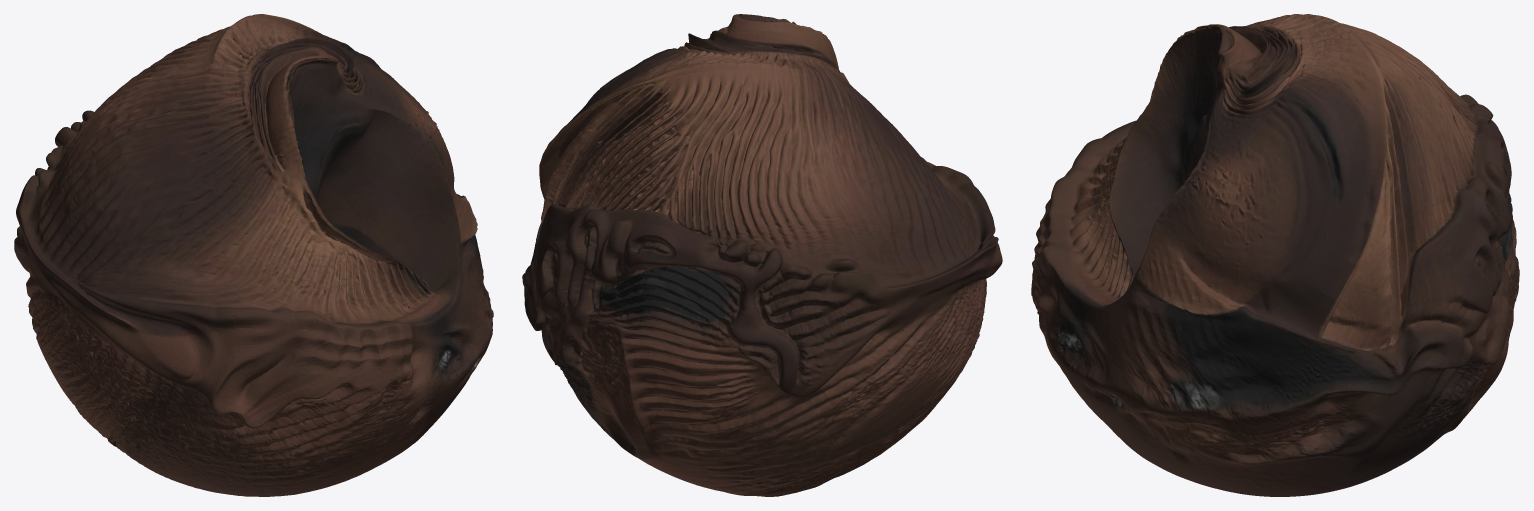
3 views of the same model, side by side, from view 1: azimuth 30°, elevation 25°; view 2: azimuth 150°, elevation 25°; view 3: azimuth 270°, elevation 25° (orthographic). The views are drawn at different scales.
Parts seen in each view (by area): view 1: tripo_node_08ccfa14-0def-40e6-944d-6bd7ec04f7e4; view 2: tripo_node_08ccfa14-0def-40e6-944d-6bd7ec04f7e4; view 3: tripo_node_08ccfa14-0def-40e6-944d-6bd7ec04f7e4.
Part boxes in pixels (left/top/right/bottom): tripo_node_08ccfa14-0def-40e6-944d-6bd7ec04f7e4: left=14, top=14, right=493, bottom=496; tripo_node_08ccfa14-0def-40e6-944d-6bd7ec04f7e4: left=522, top=14, right=1002, bottom=496; tripo_node_08ccfa14-0def-40e6-944d-6bd7ec04f7e4: left=1031, top=14, right=1519, bottom=496.
Bounding box in the file's own units: 0.9999 × 0.9957 × 0.9742.
Materials: 1 (1 with a texture image).
